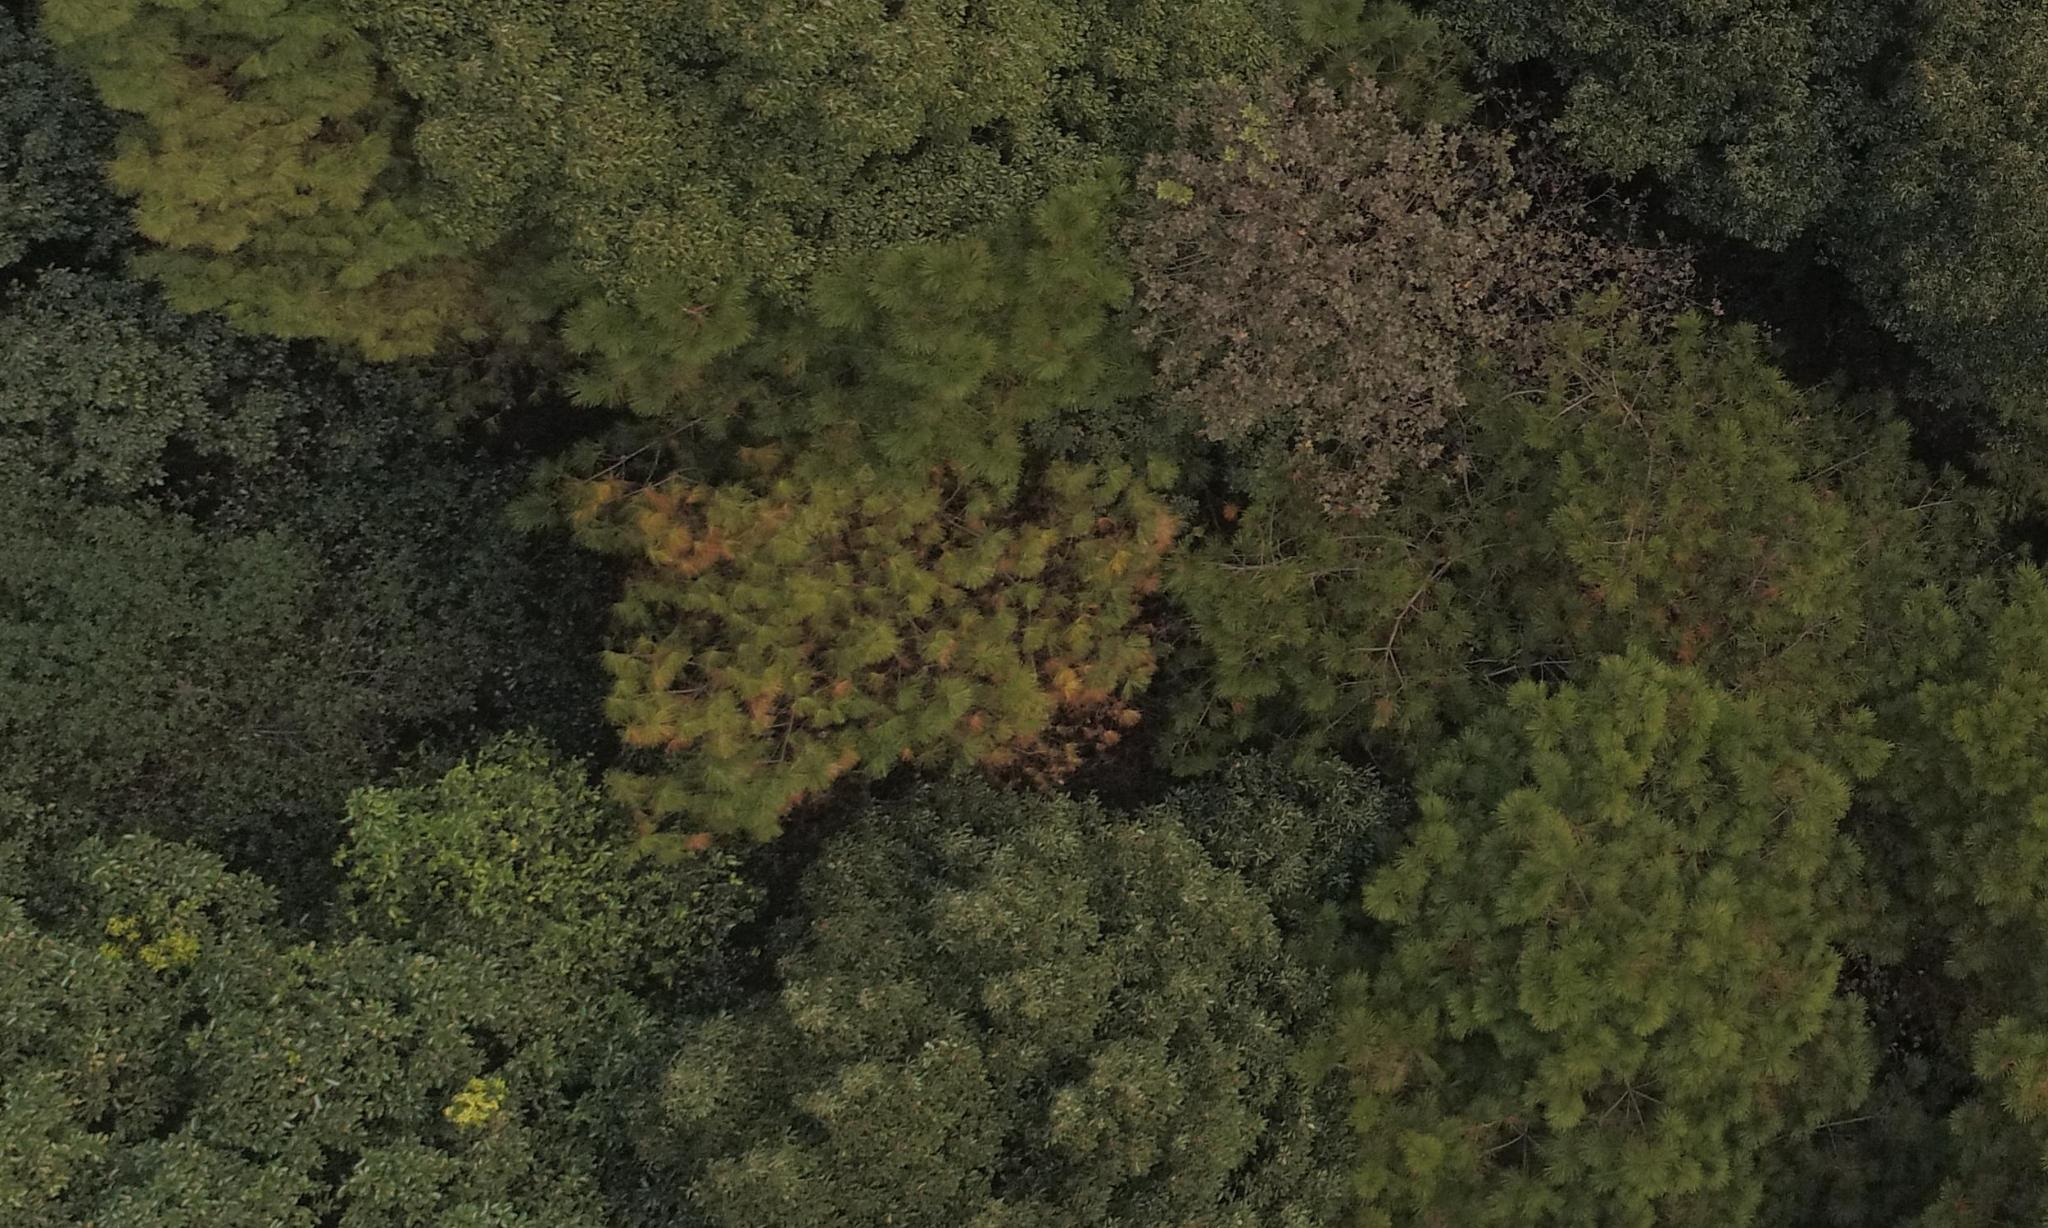light: (563, 455, 1193, 811), (1510, 341, 1915, 772)
